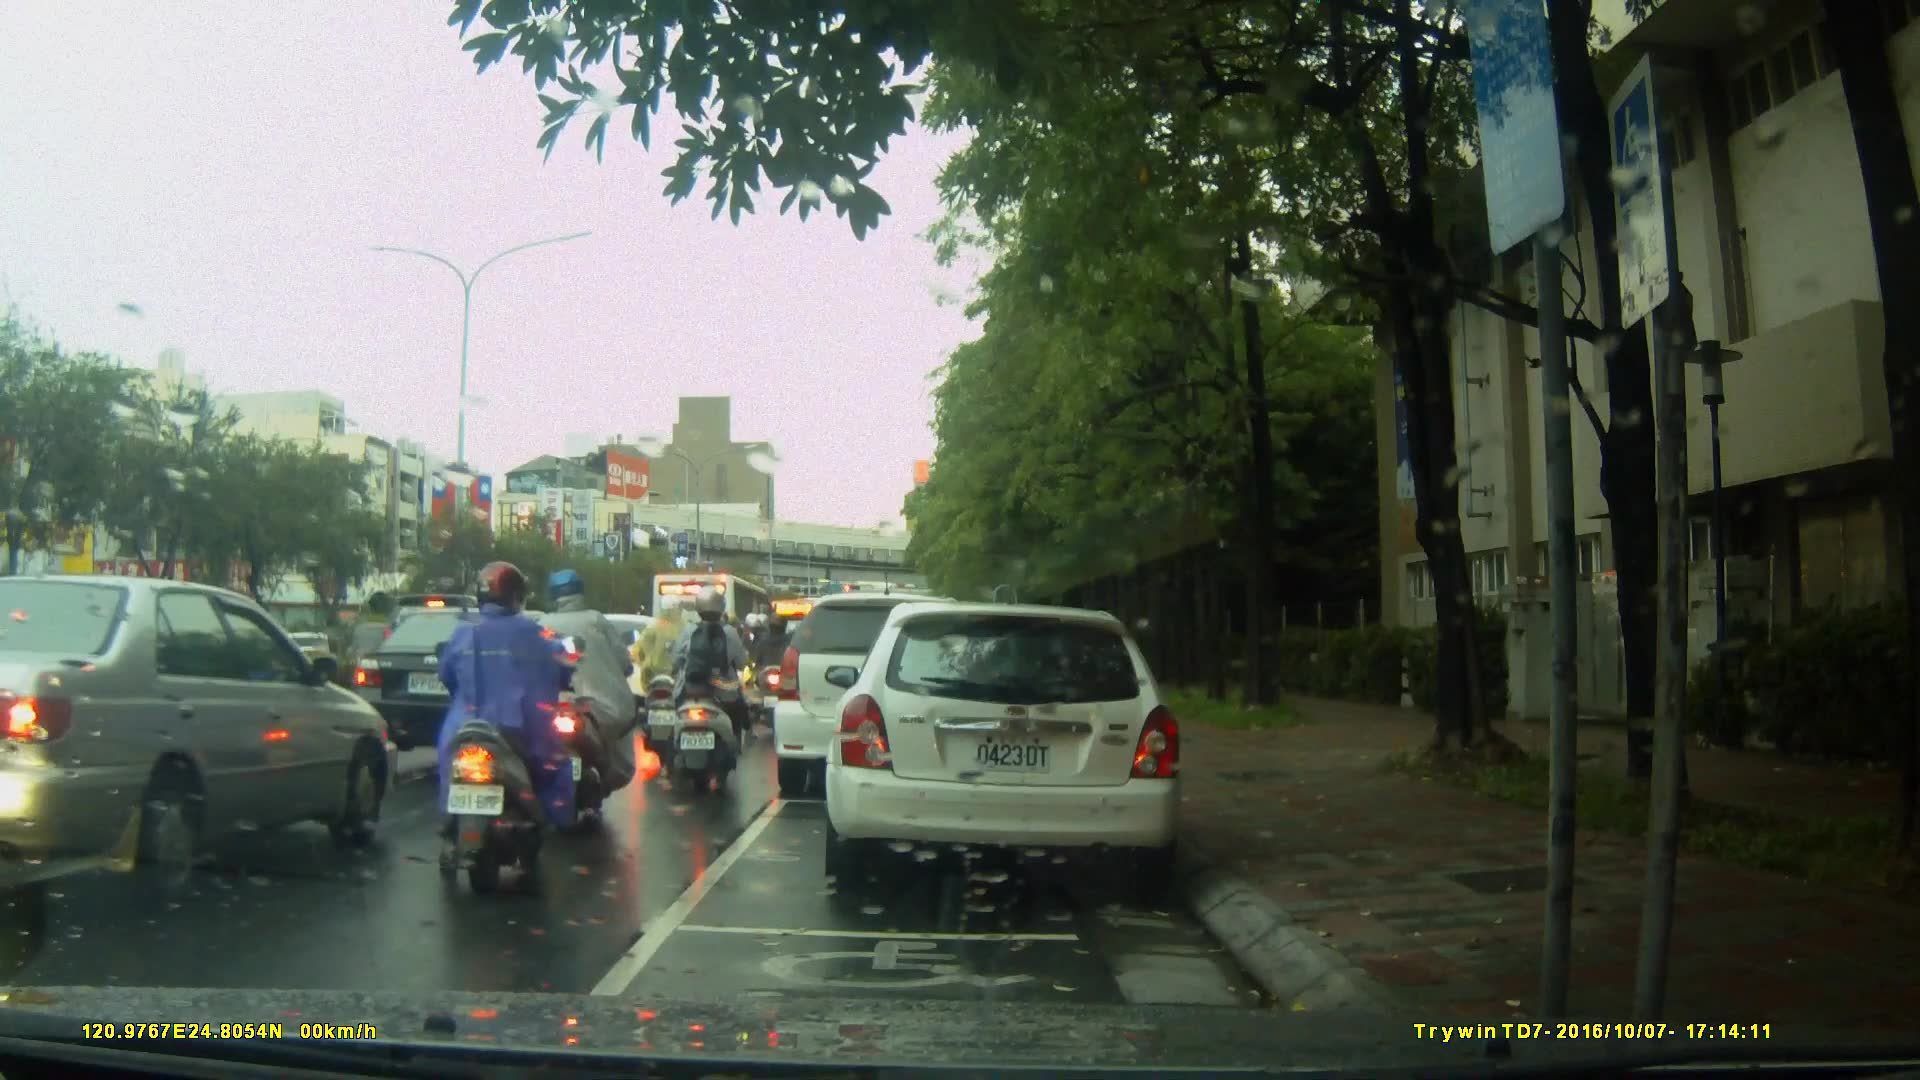rider: (437, 562, 587, 906), (524, 564, 633, 828), (662, 591, 743, 784), (625, 601, 707, 759), (745, 612, 793, 734)
vehicle: (1, 573, 404, 914), (831, 592, 1196, 897), (768, 592, 999, 801), (349, 606, 571, 757), (648, 571, 781, 702), (536, 613, 671, 722)
